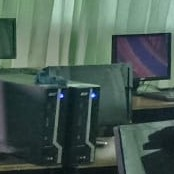monitor: (111, 32, 171, 84), (0, 18, 17, 59)
